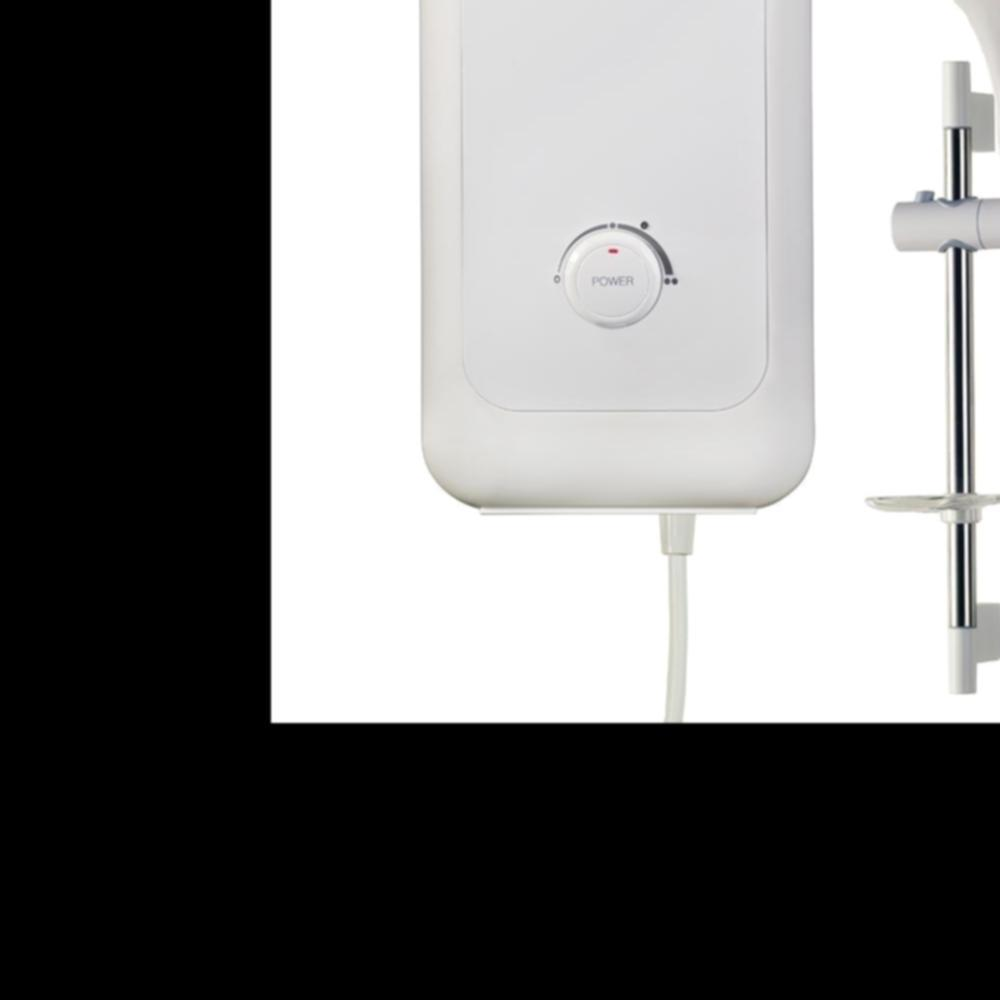Ducha: (396, 0, 1000, 722)
